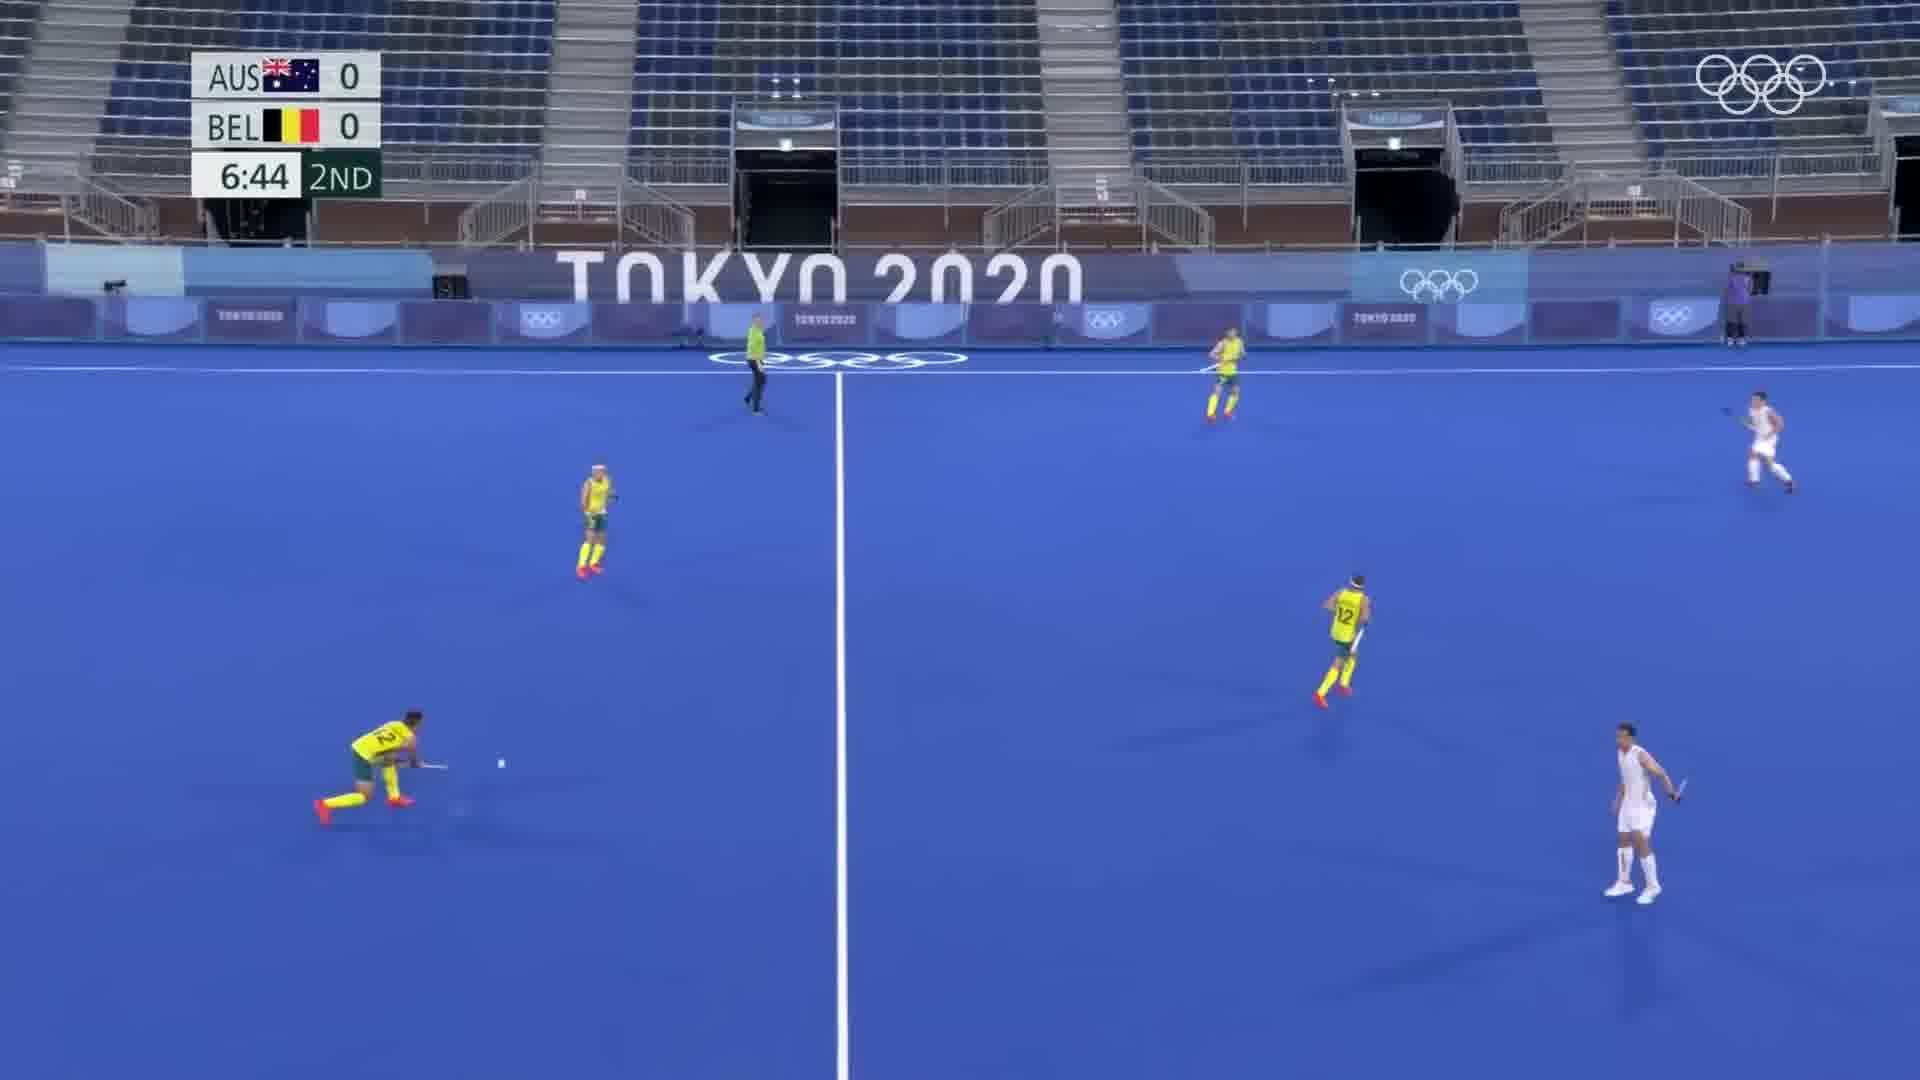ball: (487, 753, 516, 774)
